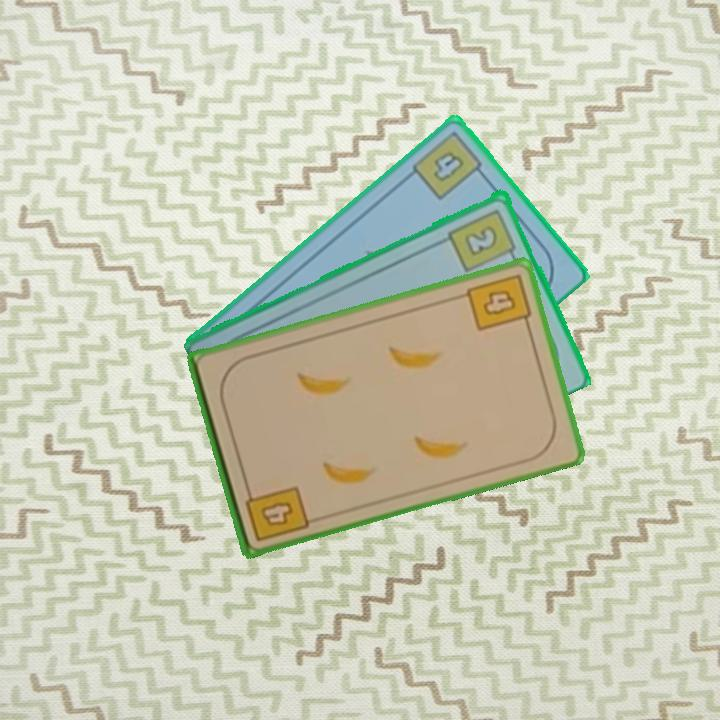2b: (445, 204, 520, 274)
4b: (408, 127, 490, 203), (463, 270, 534, 334), (241, 481, 311, 544)
